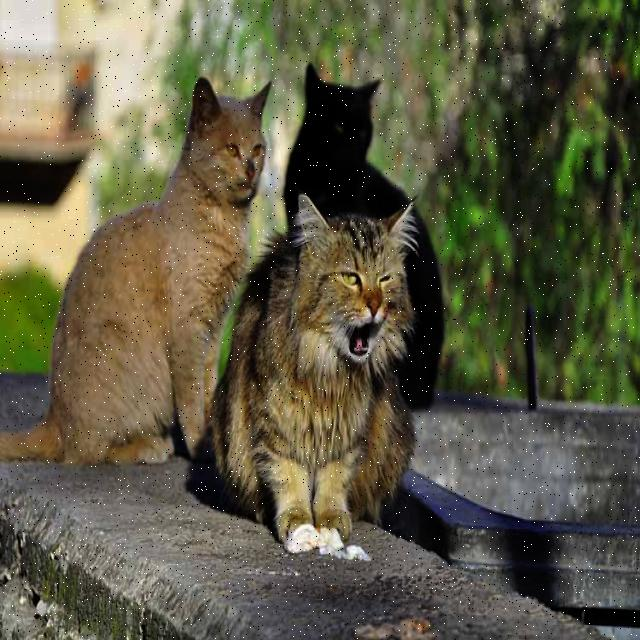cat: (0, 79, 268, 461), (214, 194, 415, 558), (284, 64, 409, 224), (399, 212, 444, 407)
